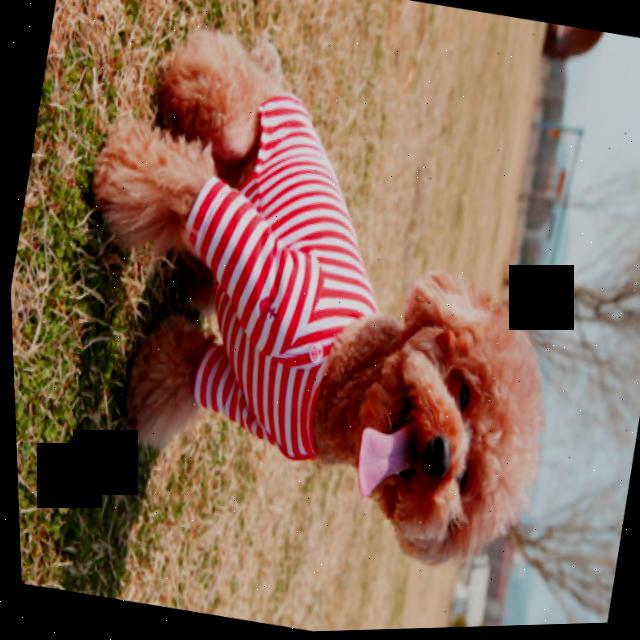cloth: (184, 95, 375, 458)
